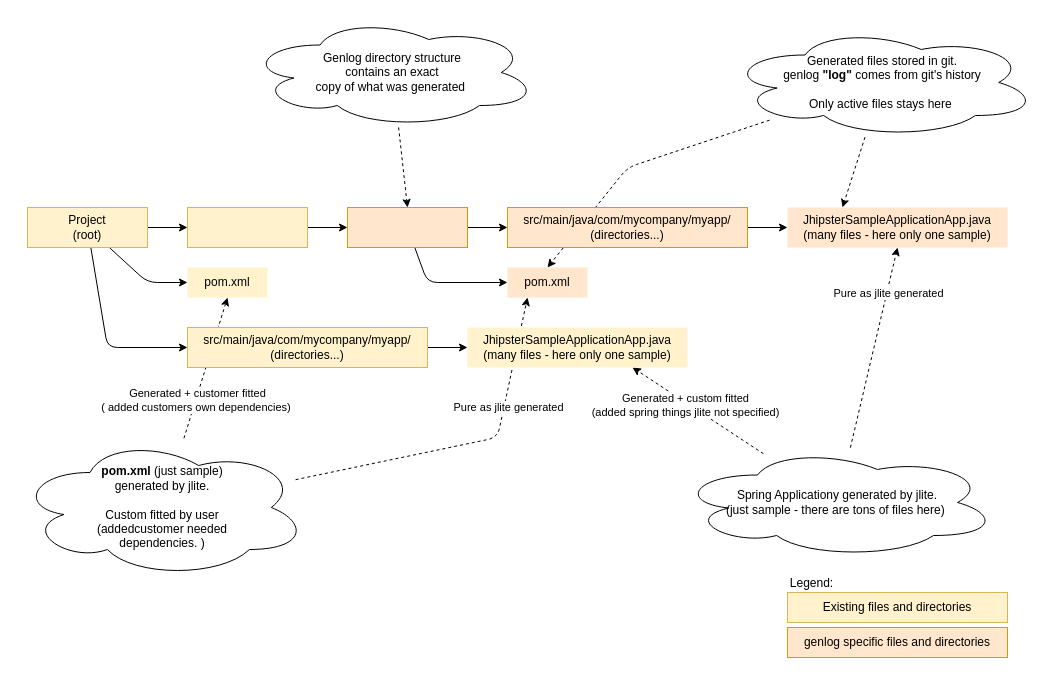
This 1055x675 diagram has some shape labels left out. The shapes that lost their labels are listed below. From the top down, each one's centre as x and y in pixels, then its label:
At [247,227]: ".jhipster".
At [407,227]: "genlog".
